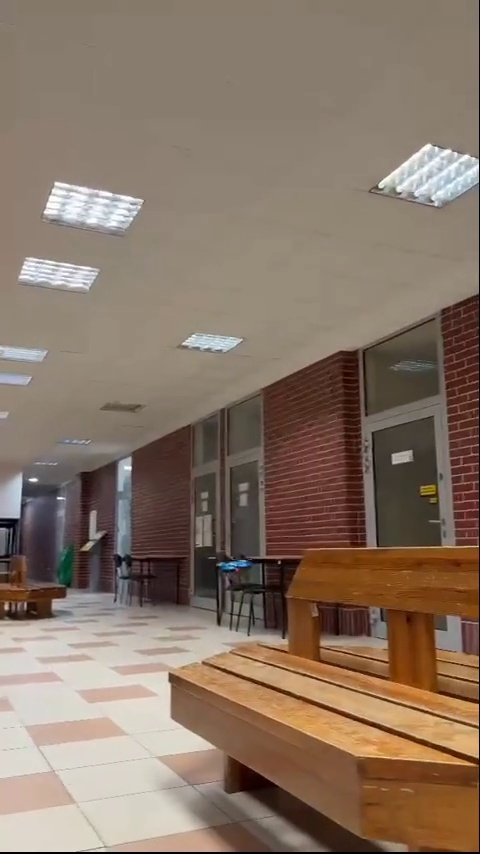drone: (215, 559, 255, 577)
